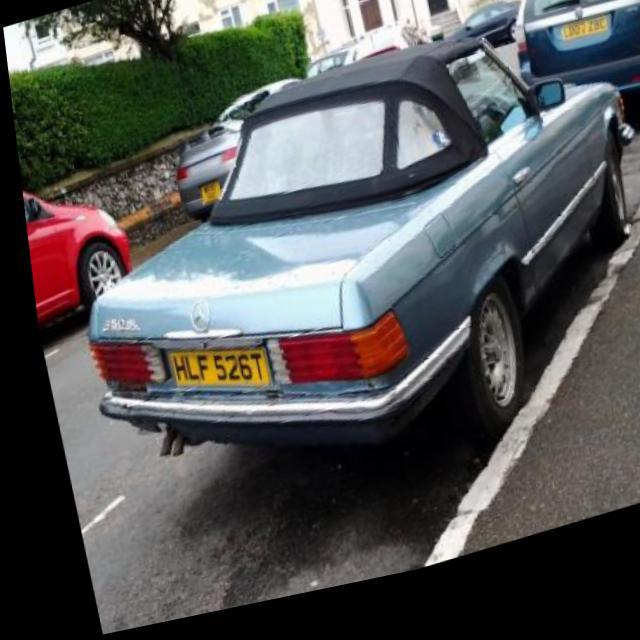license_plate: (158, 331, 266, 429), (554, 37, 606, 68), (191, 184, 218, 216)
